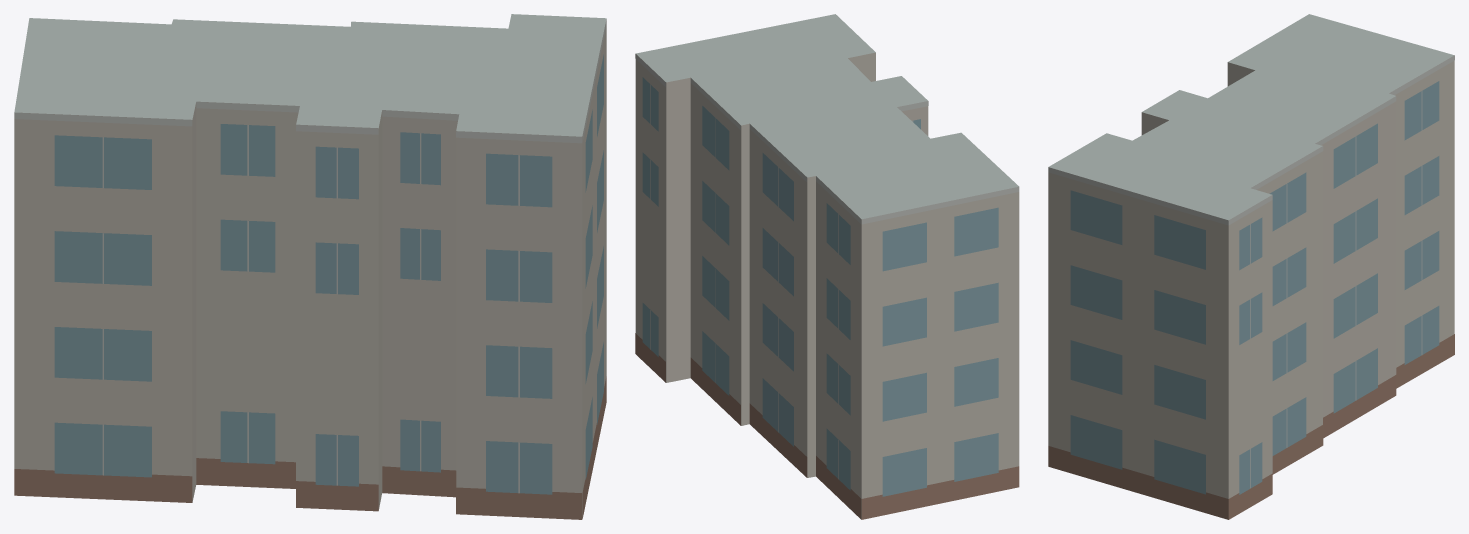
Rendered from survey-upis-32953765.glb.
3 views of the same model, side by side, from view 1: azimuth 30°, elevation 25°; view 2: azimuth 150°, elevation 25°; view 3: azimuth 270°, elevation 25° (orthographic). The views are drawn at different scales.
Parts seen in each view (by area): view 1: survey-upis-32953765.tmp; view 2: survey-upis-32953765.tmp; view 3: survey-upis-32953765.tmp.
Part boxes in pixels (x1,y1,x2,y2): survey-upis-32953765.tmp: (14, 14, 606, 519); survey-upis-32953765.tmp: (635, 14, 1019, 519); survey-upis-32953765.tmp: (1048, 14, 1454, 519).
Size of the model in its own units: 20.84 by 14.1 by 17.35.
